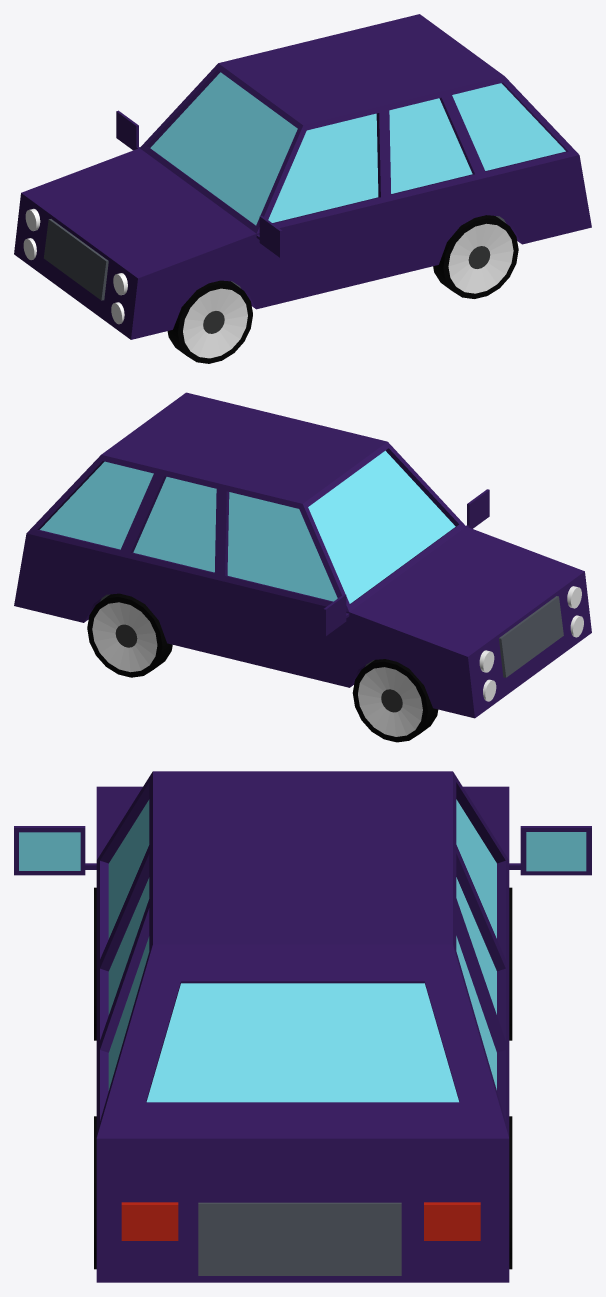
Rendered from car2C.FBX.
3 renders of one model, top to bottom at view 1: azimuth 30°, elevation 25°; view 2: azimuth 150°, elevation 25°; view 3: azimuth 270°, elevation 25°, orthographic. The views are drawn at different scales.
Visible parts, largest first — view 1: car 2C; view 2: car 2C; view 3: car 2C.
Part boxes in pixels (bbox=[...]): car 2C: bbox=[14, 14, 591, 363]; car 2C: bbox=[14, 392, 591, 742]; car 2C: bbox=[14, 771, 591, 1282].
Bounding box in the file's own units: 10.05 × 4.13 × 6.16.
